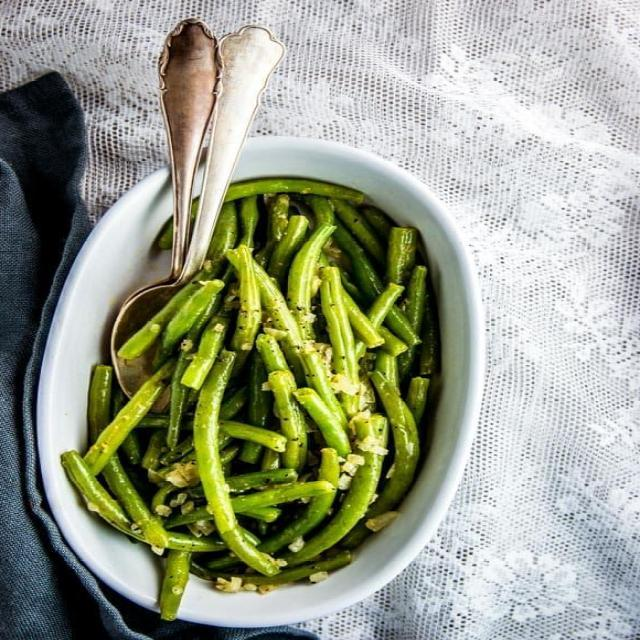Beans: (88, 172, 445, 594)
